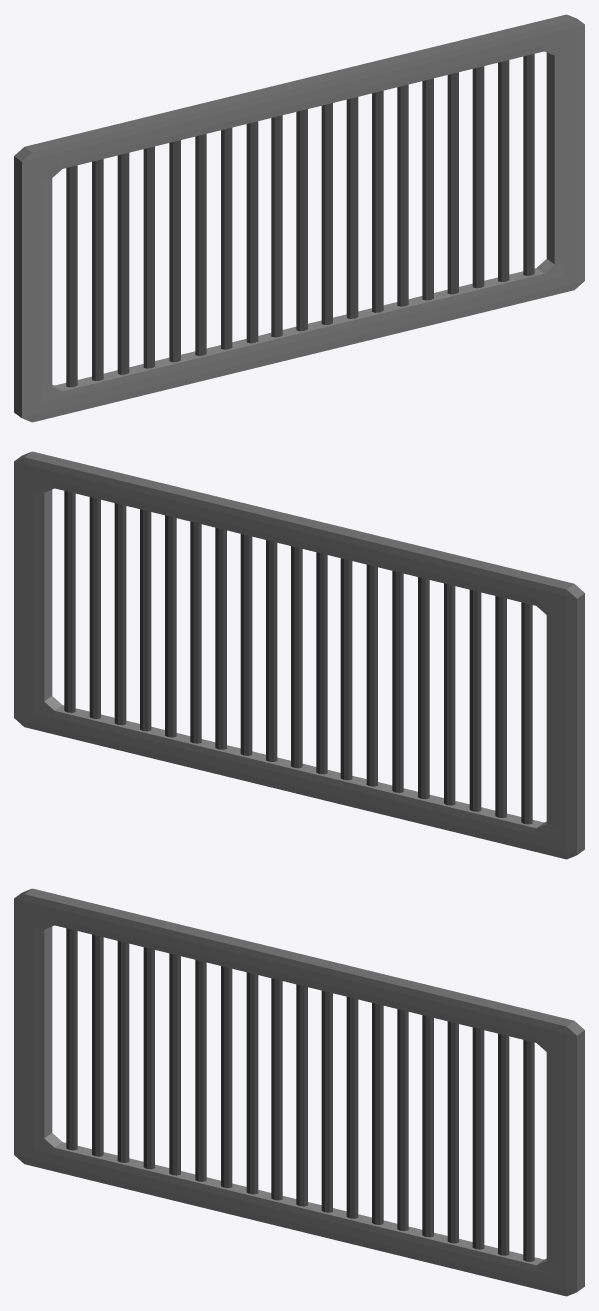
File: grid_type_02.fbx
3 views of the same model, one above another, from view 1: azimuth 30°, elevation 25°; view 2: azimuth 150°, elevation 25°; view 3: azimuth 330°, elevation 25° (orthographic).
Visible parts, largest first — view 1: grid_type_02; view 2: grid_type_02; view 3: grid_type_02.
Boxes of the visible parts, x1=… form: grid_type_02: x1=14, y1=14, x2=584, y2=422; grid_type_02: x1=14, y1=451, x2=584, y2=859; grid_type_02: x1=14, y1=888, x2=584, y2=1296.
Bounding box in the file's own units: 410 × 188 × 10.35.
